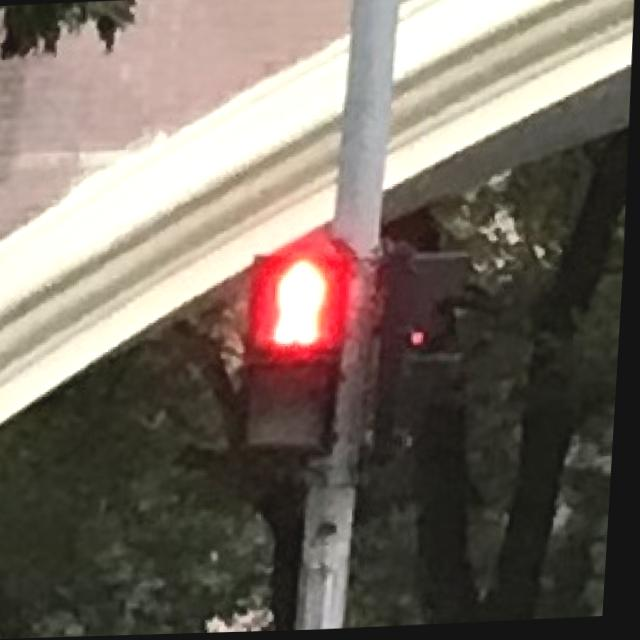red_light: (255, 254, 356, 356)
